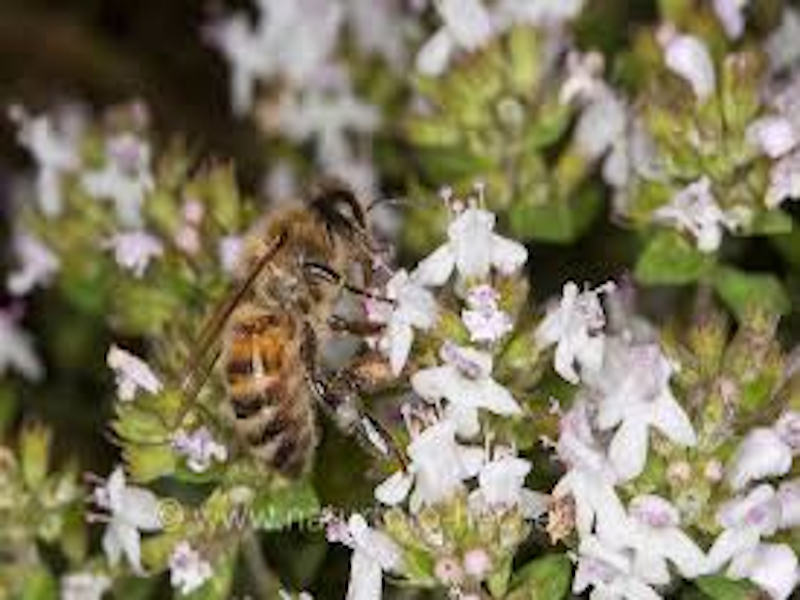abeja: (168, 172, 485, 489)
